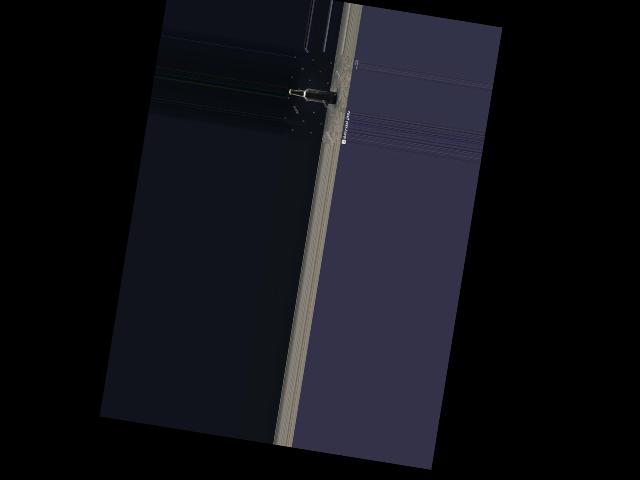beer: (288, 84, 337, 103)
